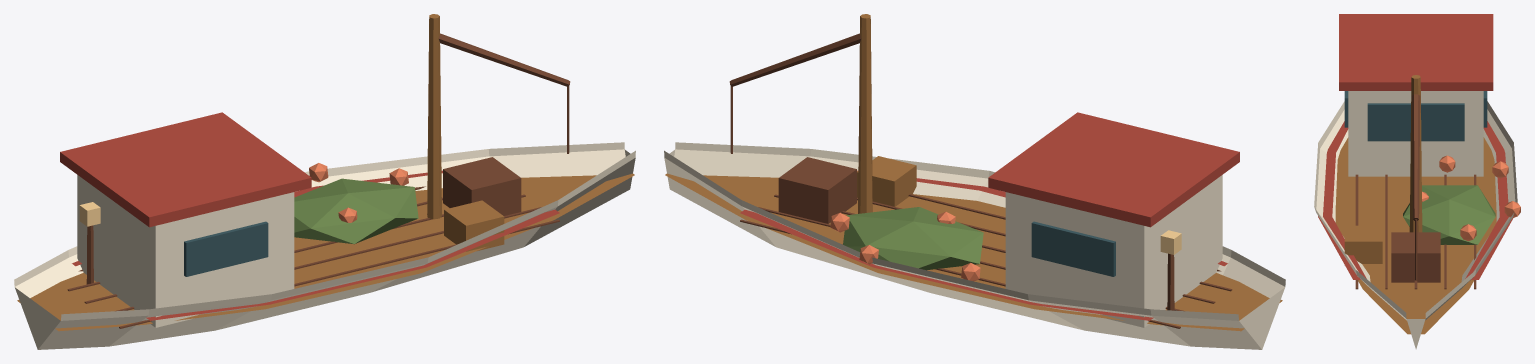
File: bay-fishing-boat.glb
3 renders of one model, left to right at view 1: azimuth 30°, elevation 25°; view 2: azimuth 150°, elevation 25°; view 3: azimuth 270°, elevation 25°, orthographic. The views are drawn at different scales.
Visible parts, largest first — view 1: GEO-fish_roof, GEO-fish_wheelhouse, GEO-fish_hull, GEO-fish_hull_deck, GEO-fish_hull_rail, GEO-fish_net, GEO-fish_crate, GEO-fish_window_s-1, GEO-fish_mast, GEO-fish_crate2, GEO-fish_trim_-1, GEO-fish_crane (+2 smaller); view 2: GEO-fish_roof, GEO-fish_wheelhouse, GEO-fish_hull, GEO-fish_hull_deck, GEO-fish_hull_rail, GEO-fish_net, GEO-fish_crate, GEO-fish_window_s1, GEO-fish_mast, GEO-fish_crate2, GEO-fish_trim_1, GEO-fish_crane (+1 smaller); view 3: GEO-fish_roof, GEO-fish_hull_deck, GEO-fish_wheelhouse, GEO-fish_net, GEO-fish_window_f, GEO-fish_hull, GEO-fish_crate, GEO-fish_hull_rail, GEO-fish_trim_-1, GEO-fish_trim_1, GEO-fish_crate2, GEO-fish_crane (+11 smaller).
Boxes of the visible parts, <box> form: GEO-fish_roof: <box>60,112,311,227</box>; GEO-fish_wheelhouse: <box>77,175,294,327</box>; GEO-fish_hull: <box>14,149,635,349</box>; GEO-fish_hull_deck: <box>17,173,634,331</box>; GEO-fish_hull_rail: <box>14,142,635,320</box>; GEO-fish_net: <box>294,178,418,244</box>; GEO-fish_crate: <box>443,157,521,215</box>; GEO-fish_window_s-1: <box>184,221,268,276</box>; GEO-fish_mast: <box>427,14,441,219</box>; GEO-fish_crate2: <box>444,200,504,251</box>; GEO-fish_trim_-1: <box>146,209,559,320</box>; GEO-fish_crane: <box>438,33,570,86</box>; GEO-fish_roof: <box>988,112,1239,227</box>; GEO-fish_wheelhouse: <box>1005,175,1222,327</box>; GEO-fish_hull: <box>664,149,1285,349</box>; GEO-fish_hull_deck: <box>665,173,1282,331</box>; GEO-fish_hull_rail: <box>664,142,1285,320</box>; GEO-fish_net: <box>843,207,983,270</box>; GEO-fish_crate: <box>778,157,856,223</box>; GEO-fish_window_s1: <box>1031,221,1115,276</box>; GEO-fish_mast: <box>858,14,872,213</box>; GEO-fish_crate2: <box>857,156,916,206</box>; GEO-fish_trim_1: <box>740,209,1153,320</box>; GEO-fish_crane: <box>729,33,861,86</box>; GEO-fish_roof: <box>1339,14,1493,90</box>; GEO-fish_hull_deck: <box>1335,137,1496,334</box>; GEO-fish_wheelhouse: <box>1348,91,1483,176</box>; GEO-fish_net: <box>1403,185,1495,244</box>; GEO-fish_window_f: <box>1367,103,1464,141</box>; GEO-fish_hull: <box>1316,109,1515,349</box>; GEO-fish_crate: <box>1391,232,1440,282</box>; GEO-fish_hull_rail: <box>1314,101,1517,318</box>; GEO-fish_trim_-1: <box>1318,121,1366,279</box>; GEO-fish_trim_1: <box>1465,121,1513,279</box>; GEO-fish_crate2: <box>1344,225,1382,265</box>; GEO-fish_crane: <box>1411,94,1420,220</box>.
Size of the model in its own units: 6.2 by 2.61 by 2.17.
